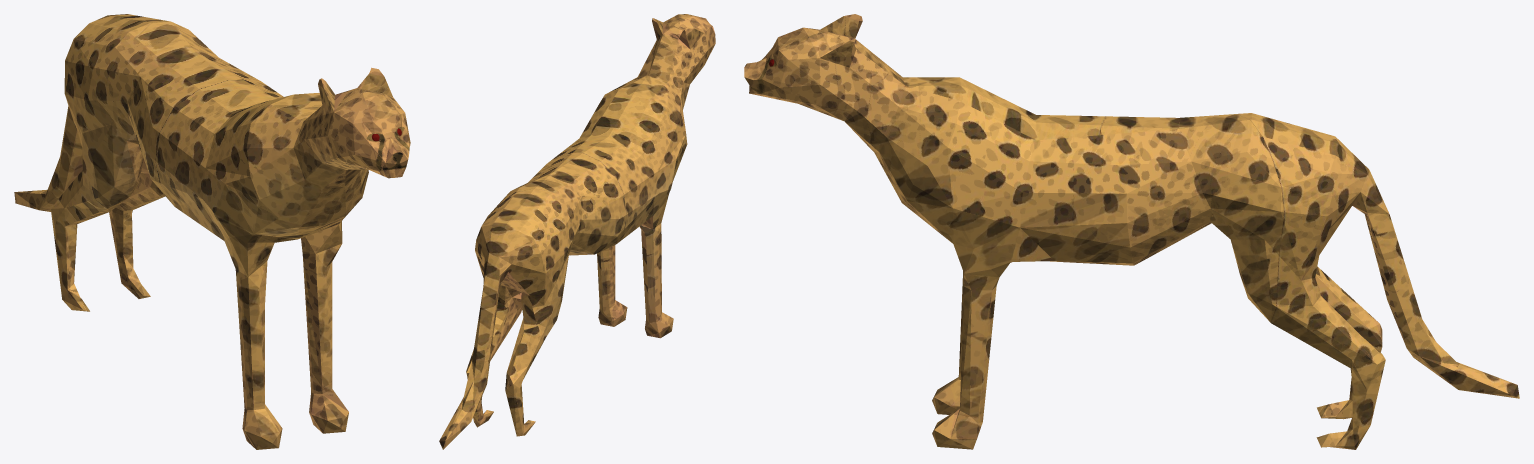
Rendered from Cheetah.fbx.
The picture shows the model from 3 angles, left to right: view 1: azimuth 30°, elevation 25°; view 2: azimuth 150°, elevation 25°; view 3: azimuth 270°, elevation 25°; orthographic projection. The views are drawn at different scales.
Parts seen in each view (by area): view 1: Body; view 2: Body; view 3: Body.
Part boxes in pixels (box(x1,y1,x2,y2)): Body: box(14, 14, 410, 449); Body: box(439, 14, 715, 449); Body: box(744, 14, 1519, 449).
Bounding box in the file's own units: 200 × 592 × 1017.
2 materials, 1 textured.
